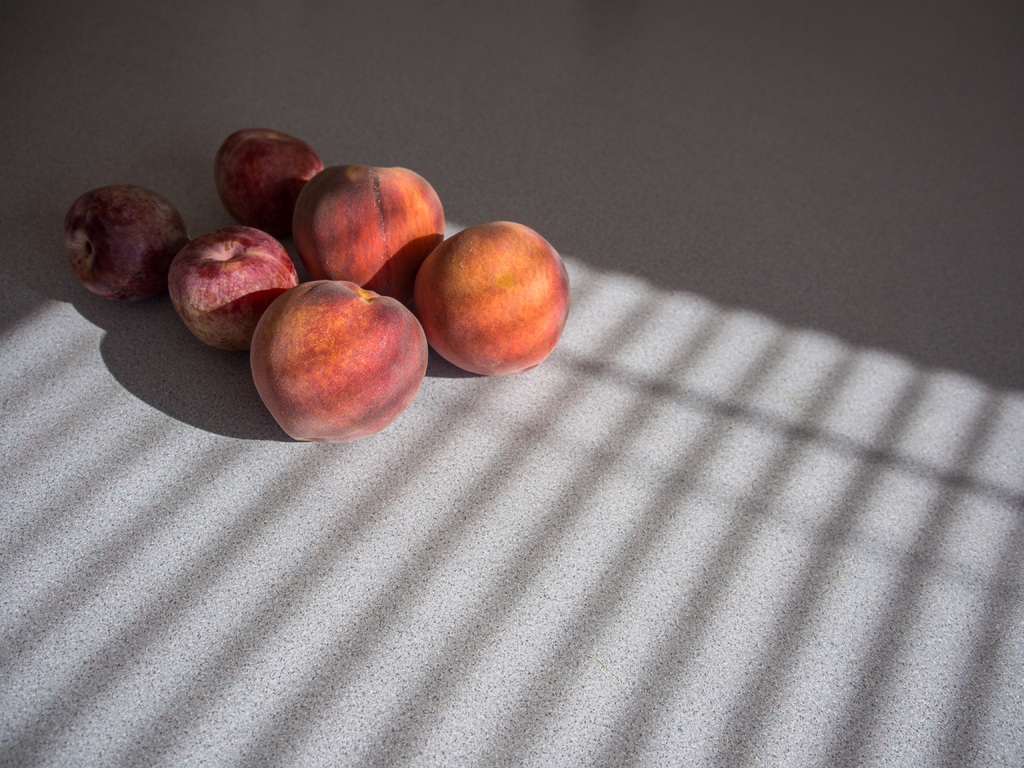Apple: (238, 264, 410, 446), (408, 222, 570, 378), (289, 161, 448, 301), (164, 227, 302, 351), (62, 184, 190, 303), (209, 129, 327, 241)
